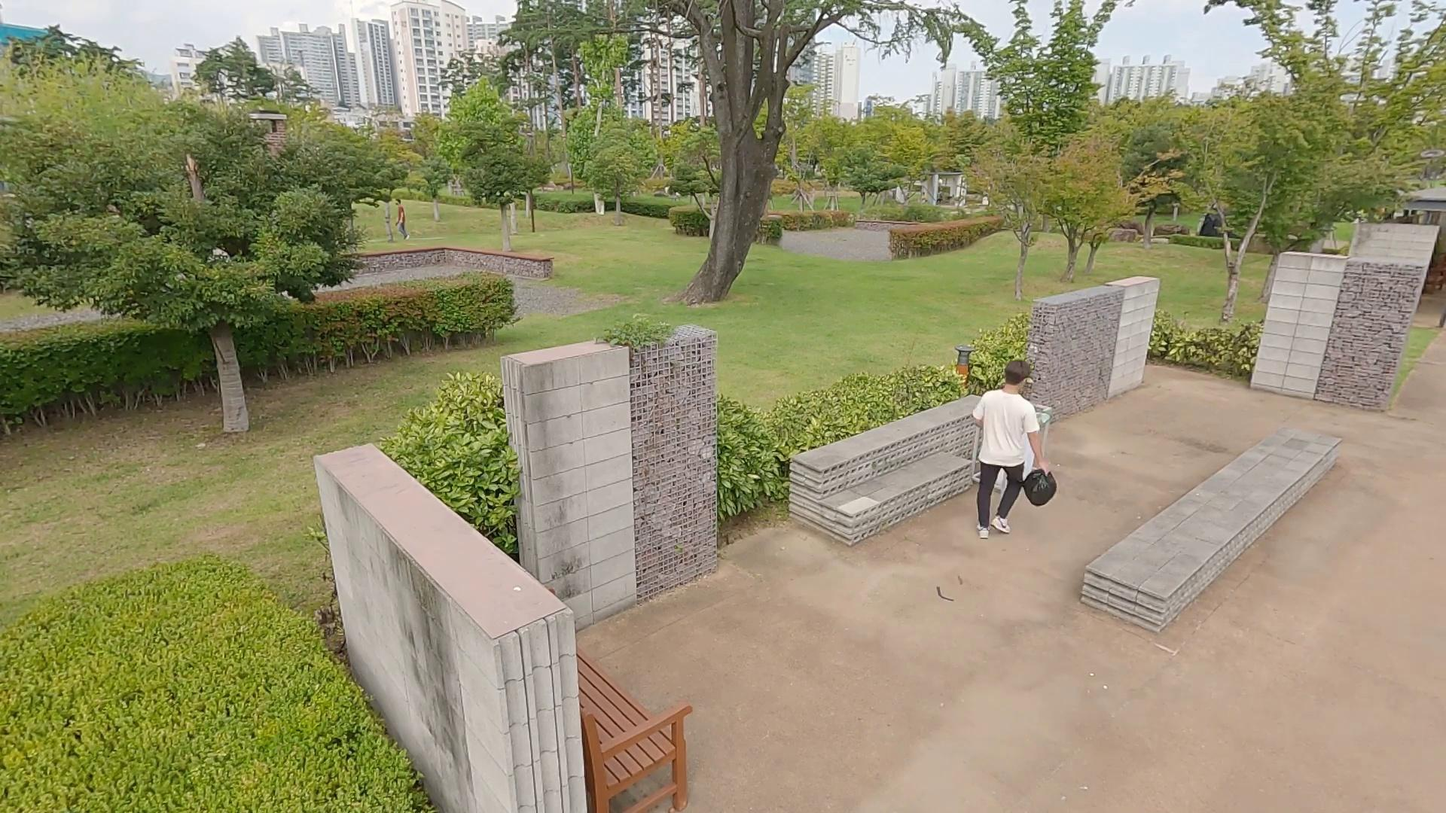person: (972, 359, 1055, 543)
trash: (1020, 464, 1057, 508)
